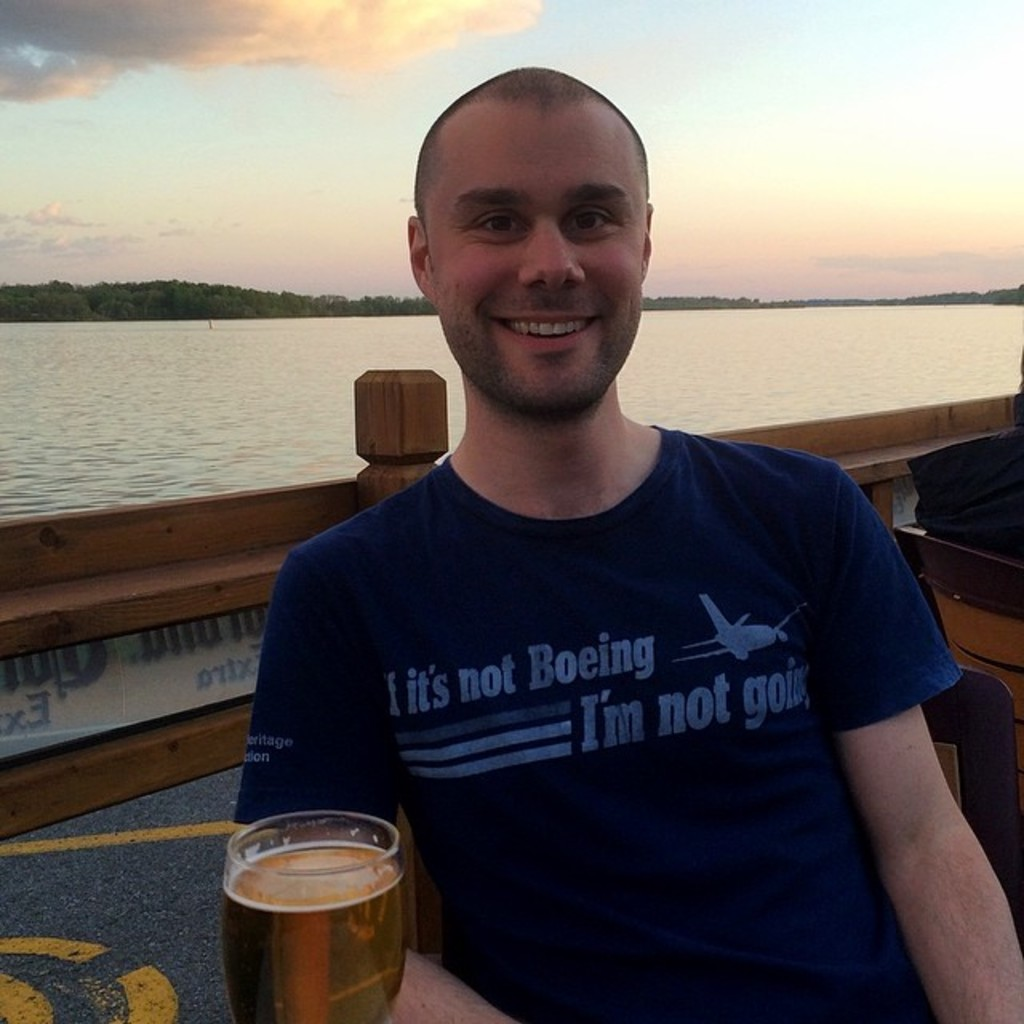Beer: (217, 843, 404, 1022)
